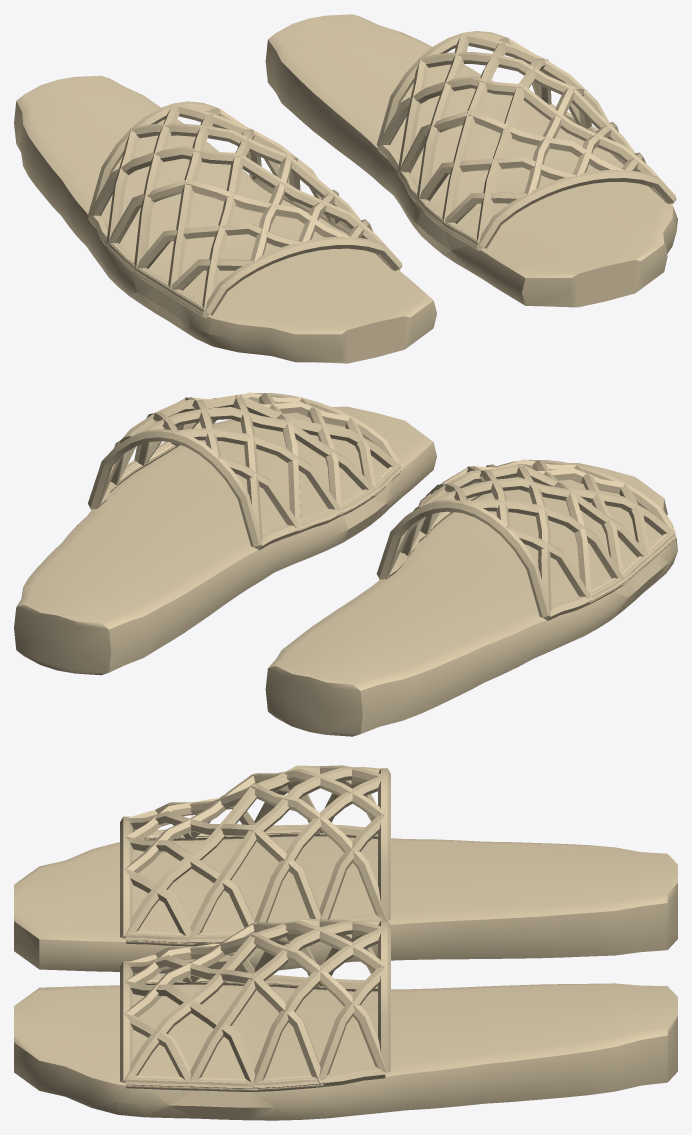
File: dep_to_ong_vn.mid.glb
The picture shows the model from 3 angles, top to bottom: view 1: azimuth 30°, elevation 25°; view 2: azimuth 150°, elevation 25°; view 3: azimuth 270°, elevation 25°; orthographic projection. The views are drawn at different scales.
Parts seen in each view (by area): view 1: dep_to_ong_vn; view 2: dep_to_ong_vn; view 3: dep_to_ong_vn.
Boxes of the visible parts, x1=… form: dep_to_ong_vn: x1=14, y1=14, x2=677, y2=363; dep_to_ong_vn: x1=14, y1=392, x2=677, y2=736; dep_to_ong_vn: x1=14, y1=765, x2=677, y2=1120.
Bounding box in the file's own units: 0.2344 × 0.0612 × 0.2537.
